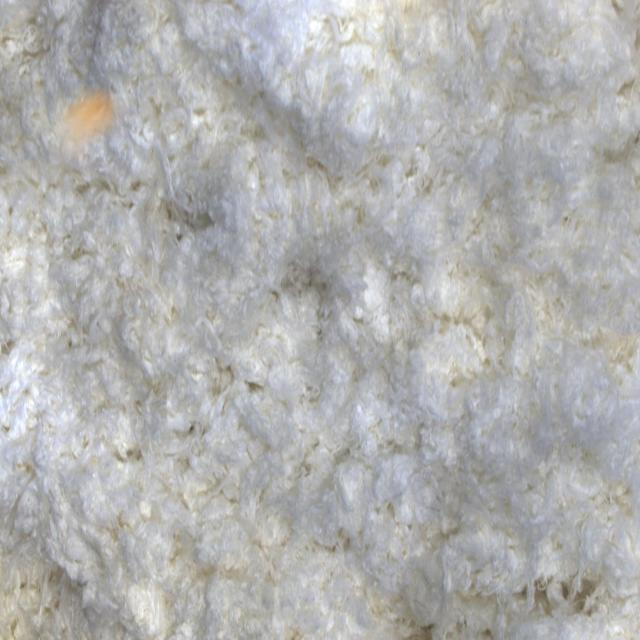dust: (50, 85, 132, 185)
